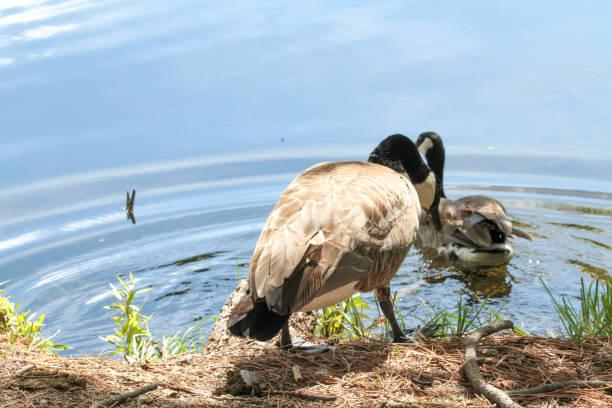Canadian-Goose: (224, 130, 429, 358), (419, 125, 526, 278)
